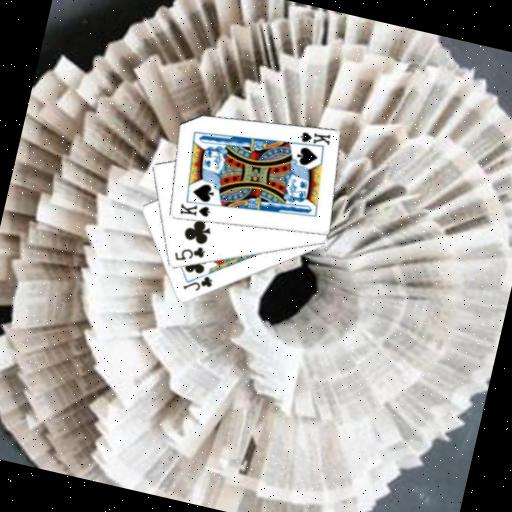5C: (170, 238, 208, 269)
JC: (179, 268, 216, 298)
KS: (293, 124, 333, 153), (175, 198, 213, 223)
